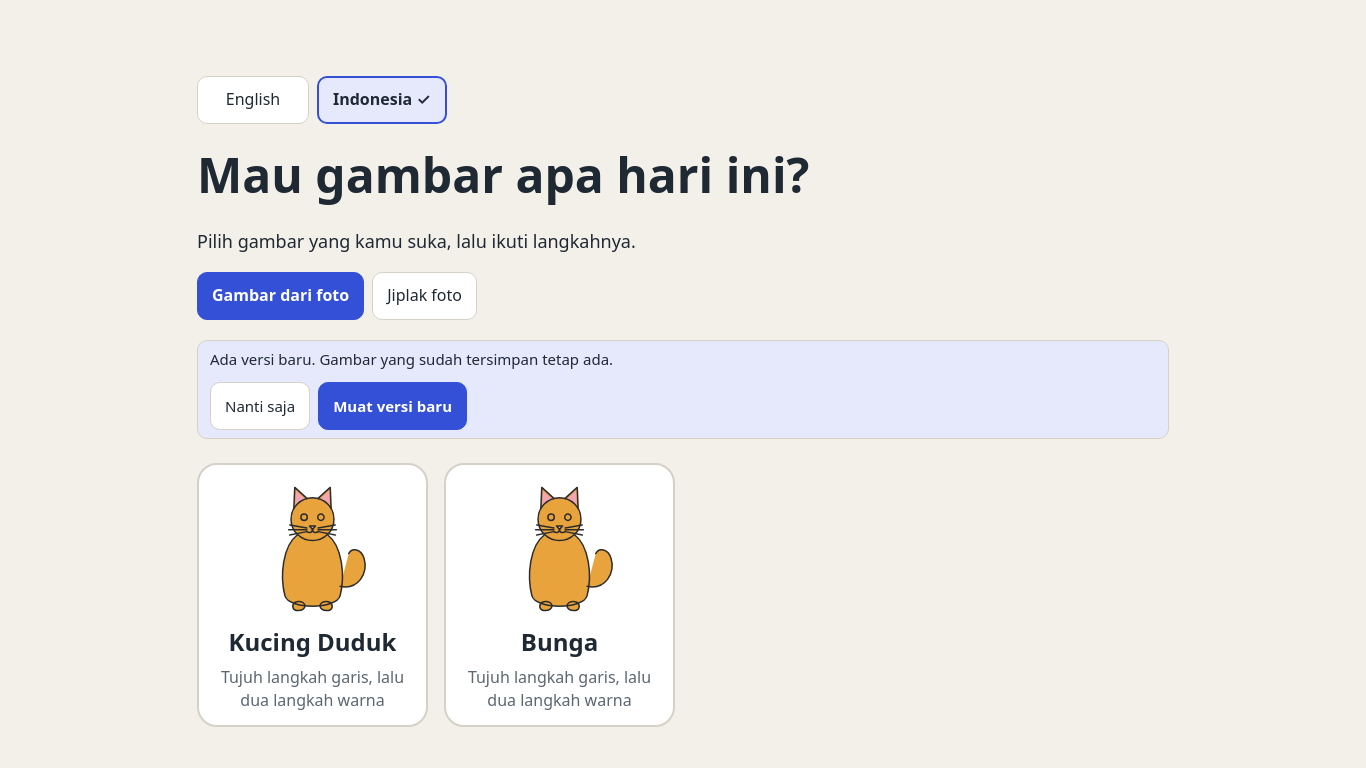
lesson picker › offers a waiting update on the picker and hides it while a drawing is open
The width and height of the screenshot is (1366, 768).
Check: the button "Muat versi baru" is shown, box [318,382,467,430]
Check: the text "Ada versi baru. Gambar yang sudah tersimpan tetap ada." is shown, box [210,349,613,369]
Click the button "Kucing Duduk Tujuh langkah garis, lalu dua langkah warna": {"x": 312, "y": 595} [197,463,428,727]
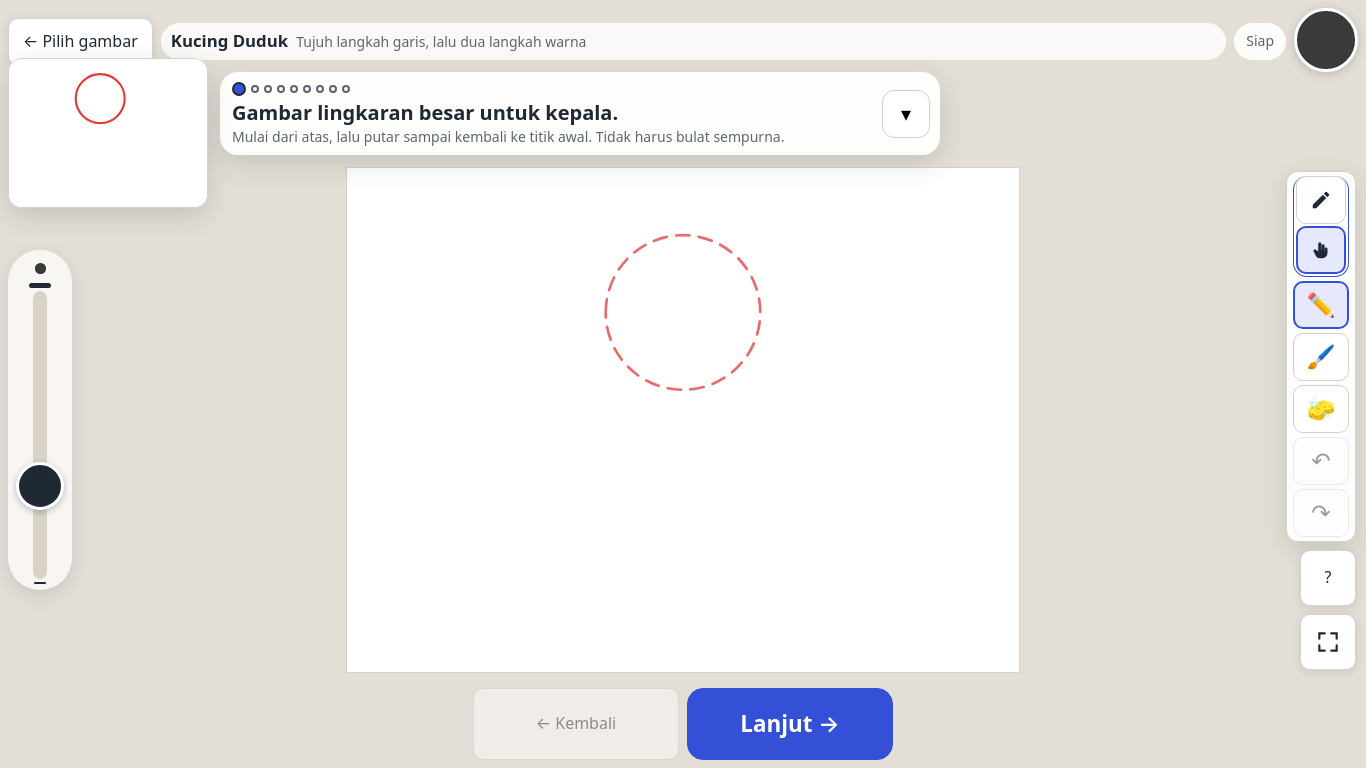
Check: the heading "Kucing Duduk" is shown, box [171,29,288,54]
Check: the button "Muat versi baru" is gone
Check: the text "Ada versi baru" is gone
Click the button "← Pilih gambar": {"x": 80, "y": 42} [8,18,153,66]
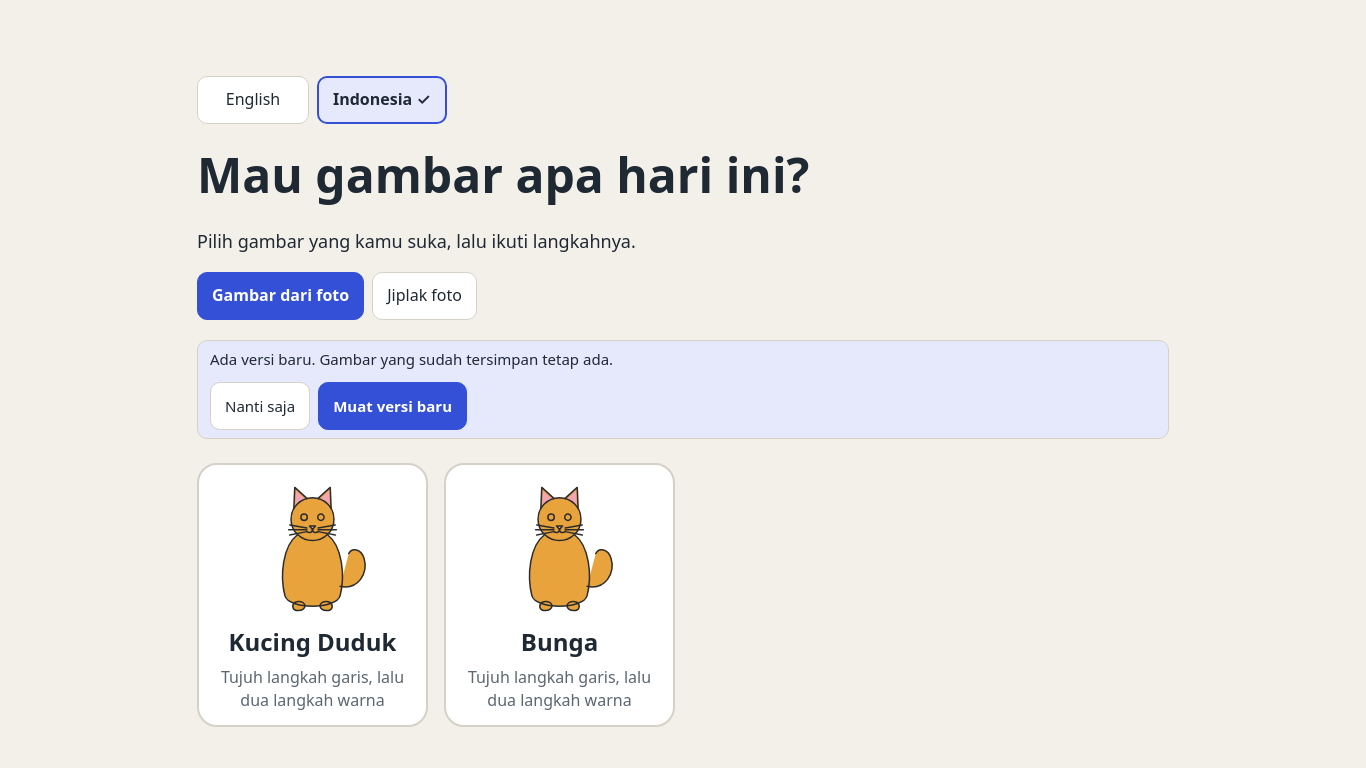
Check: the heading "Mau gambar apa hari ini?" is shown, box [197,142,809,207]
Click the button "Nanti saja": {"x": 260, "y": 406} [210,382,310,430]
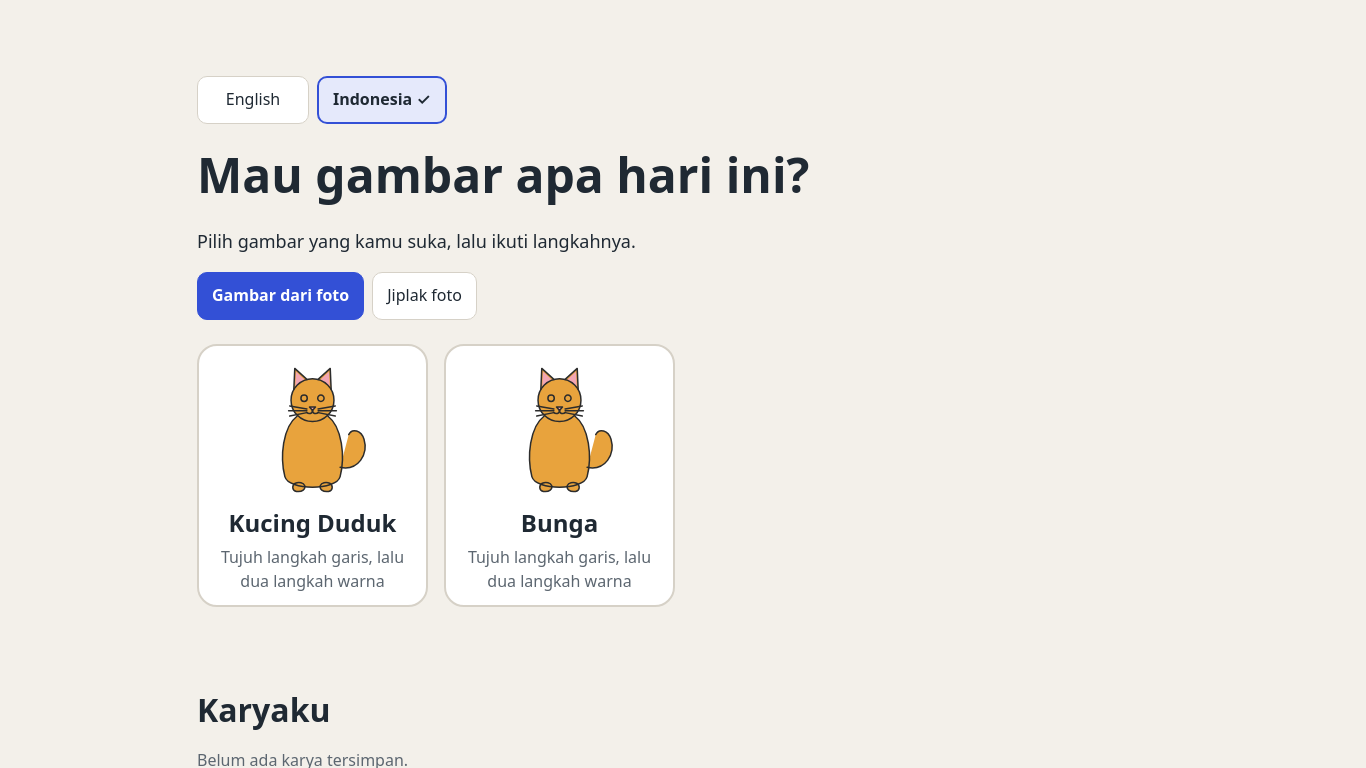
Check: the heading "Mau gambar apa hari ini?" is shown, box [197,142,809,207]
Check: the button "Muat versi baru" is gone
Click the button "Kucing Duduk Tujuh langkah garis, lalu dua langkah warna": {"x": 312, "y": 475} [197,344,428,607]
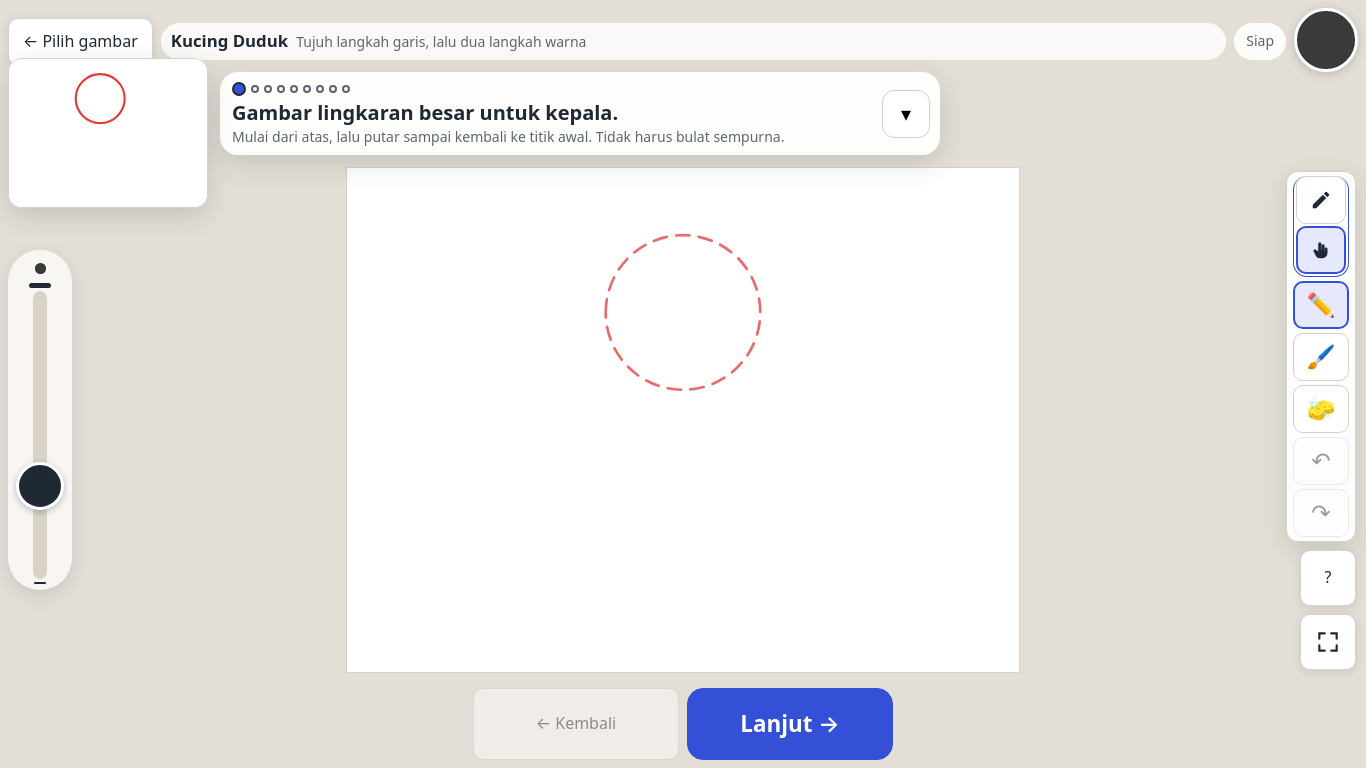
Check: the heading "Kucing Duduk" is shown, box [171,29,288,54]
Click the button "← Pilih gambar": {"x": 80, "y": 42} [8,18,153,66]
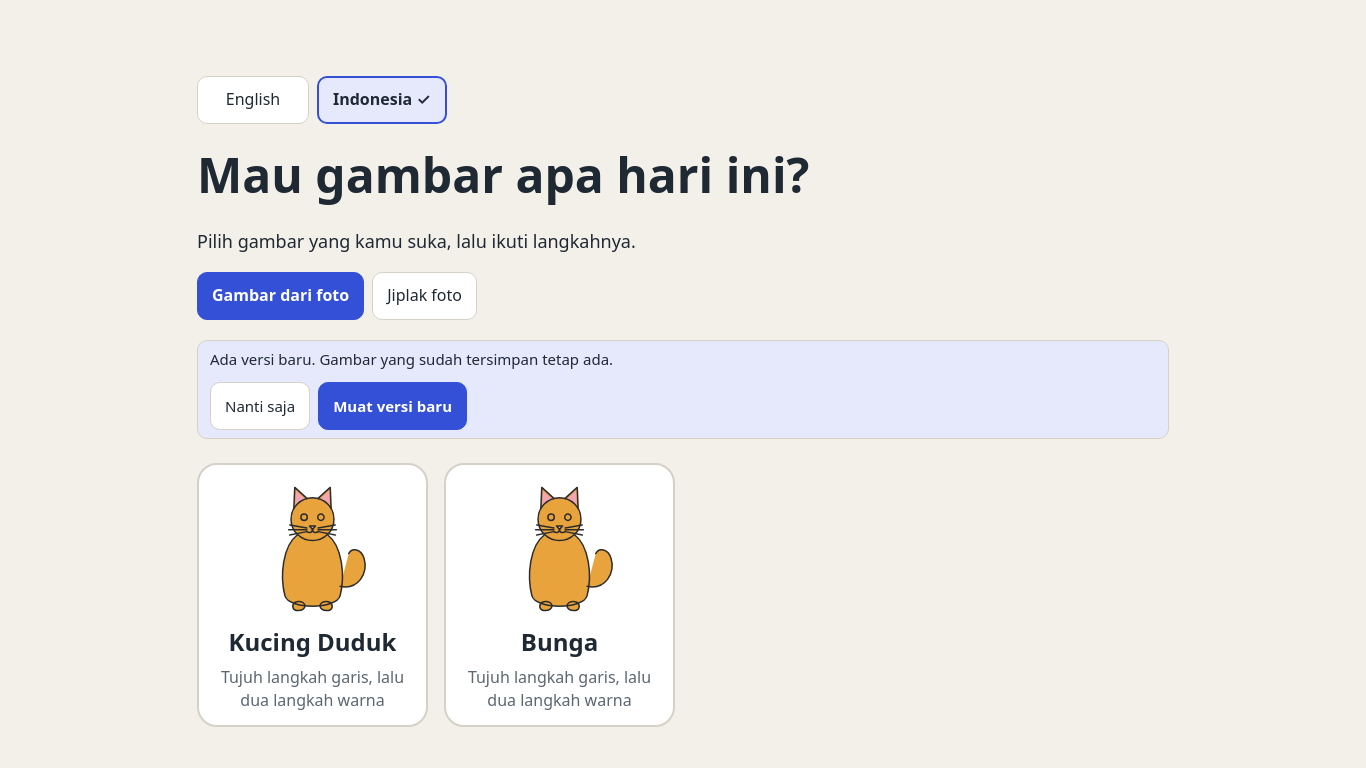
Check: the heading "Mau gambar apa hari ini?" is shown, box [197,142,809,207]
Click the button "Muat versi baru": {"x": 393, "y": 406} [318,382,467,430]
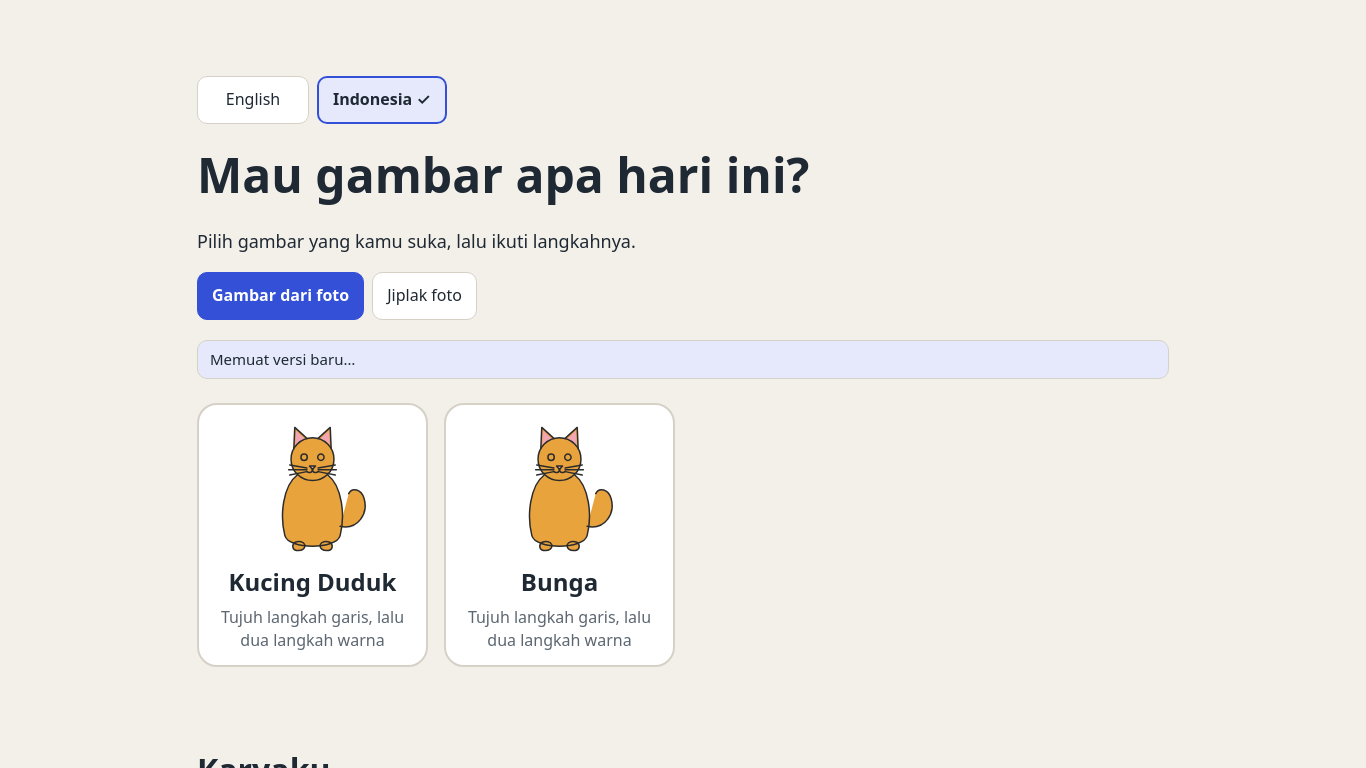
Check: the heading "Mau gambar apa hari ini?" is shown, box [197,142,809,207]
Check: the text "Memuat versi baru…" is shown, box [210,349,355,369]
Check: the button "Kucing Duduk Tujuh langkah garis, lalu dua langkah warna" is disabled, box [197,403,428,667]
